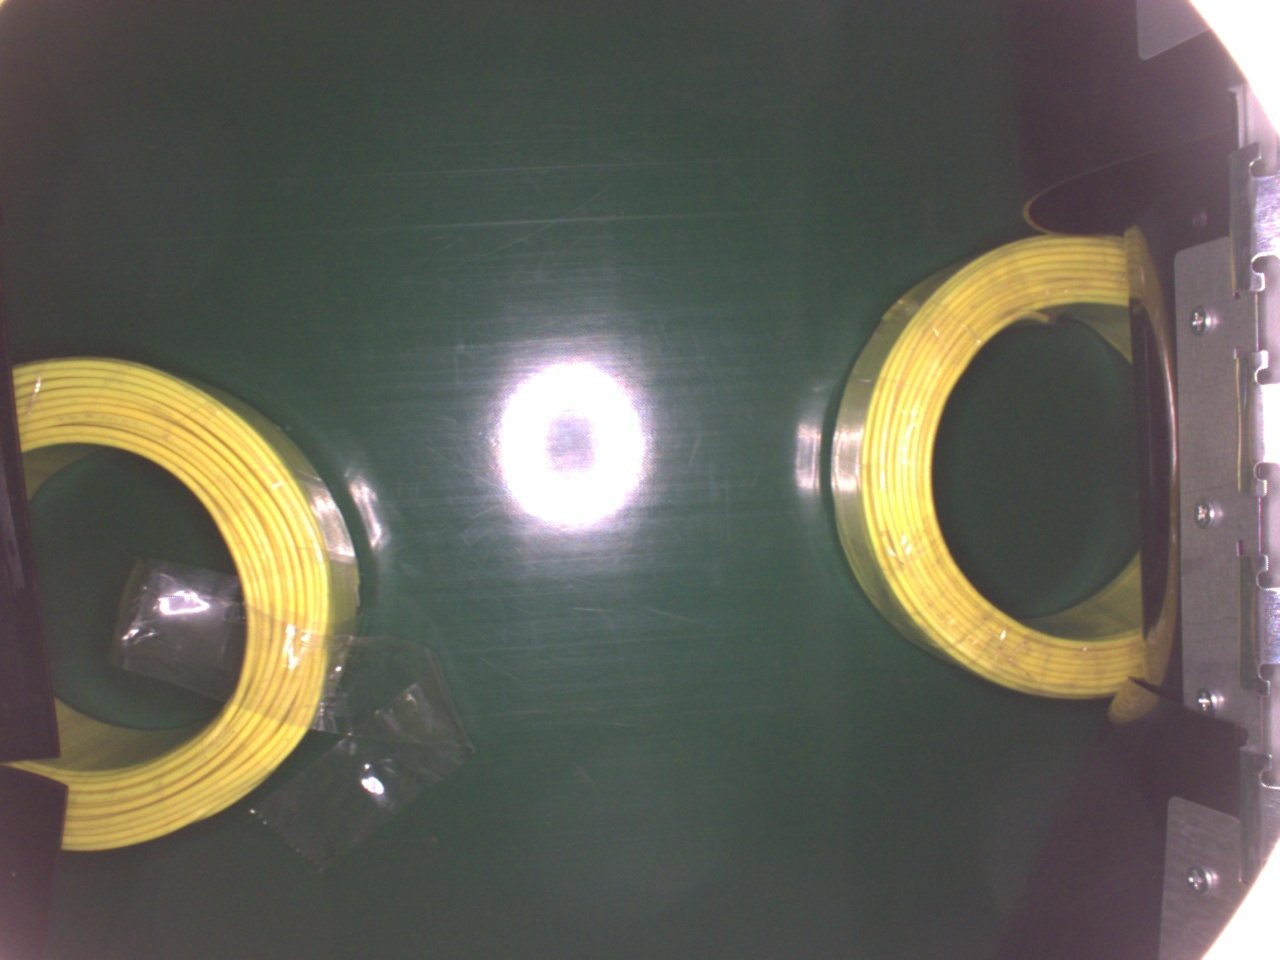yellow: (9, 356, 362, 853), (827, 229, 1144, 697)
